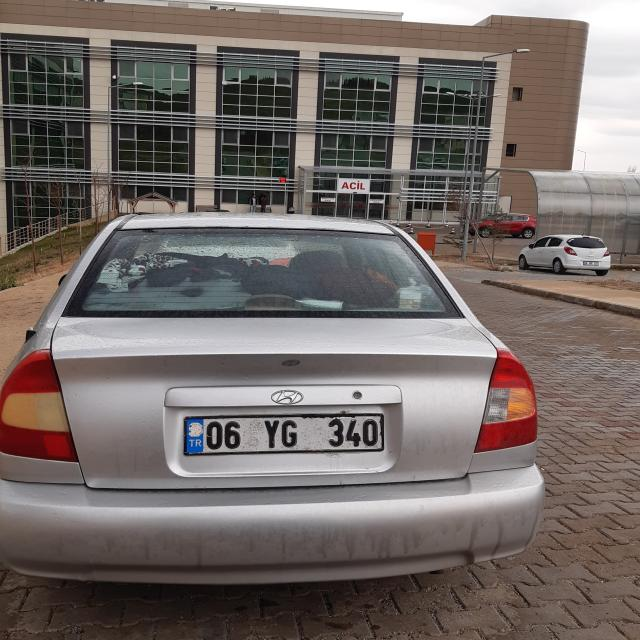license_plate: (184, 418, 384, 448)
